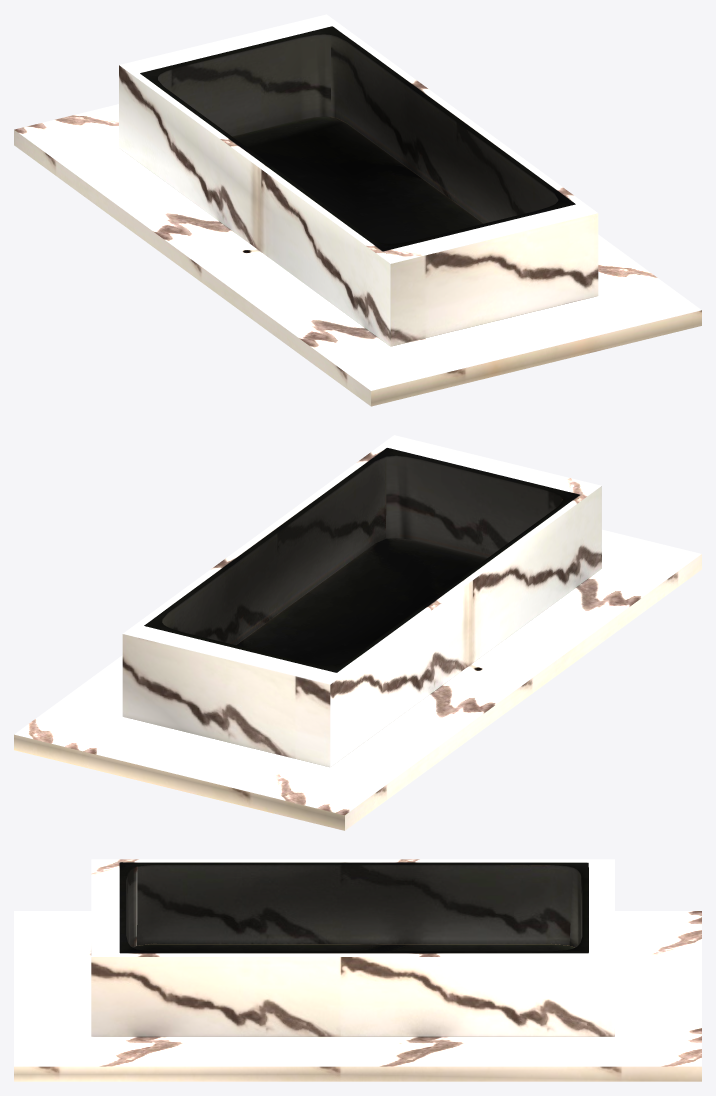
File: Panda_White.glb
3 views of the same model, one above another, from view 1: azimuth 30°, elevation 25°; view 2: azimuth 150°, elevation 25°; view 3: azimuth 270°, elevation 25° (orthographic). The views are drawn at different scales.
Parts seen in each view (by area): view 1: Panda_White; view 2: Panda_White; view 3: Panda_White.
Part boxes in pixels (bbox=[...]): Panda_White: bbox=[14, 14, 701, 406]; Panda_White: bbox=[14, 435, 701, 830]; Panda_White: bbox=[14, 859, 701, 1081].
Bounding box in the file's own units: 1.57 × 0.5265 × 2.94.
Materials: 1 (1 with a texture image).
